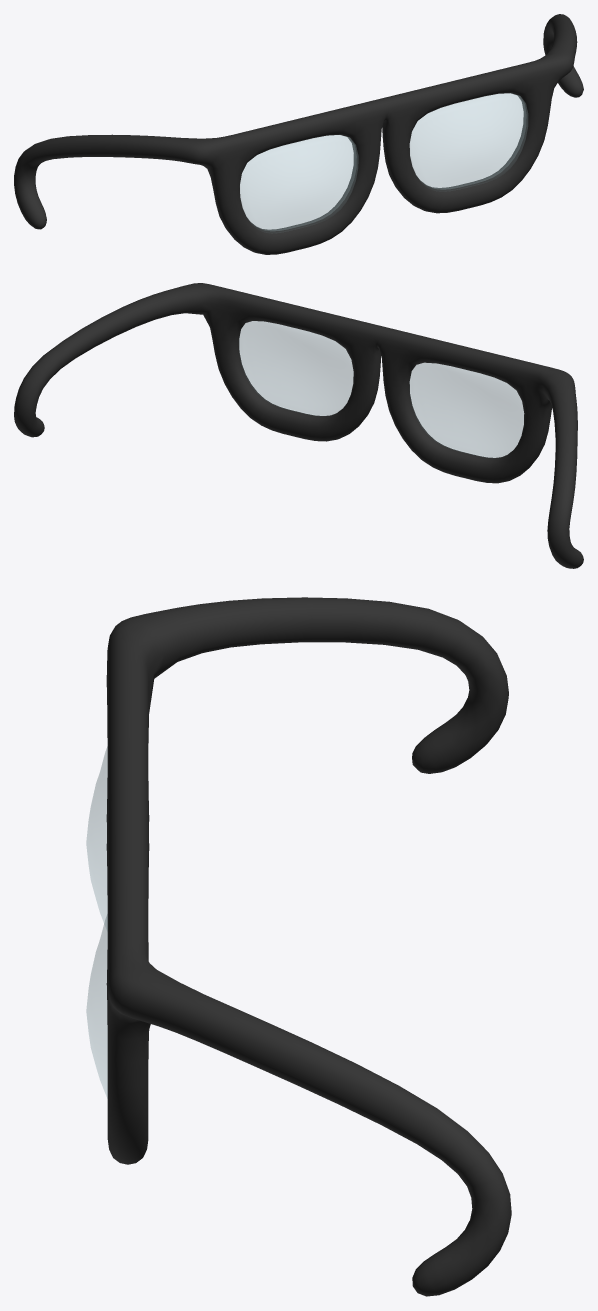
File: nerd.glb
3 views of the same model, one above another, from view 1: azimuth 30°, elevation 25°; view 2: azimuth 150°, elevation 25°; view 3: azimuth 270°, elevation 25° (orthographic). The views are drawn at different scales.
Visible parts, largest first — view 1: NerdGlasses_2658.Shape.002; view 2: NerdGlasses_2658.Shape.002; view 3: NerdGlasses_2658.Shape.002.
Part boxes in pixels (x1,y1,x2,y2): NerdGlasses_2658.Shape.002: (14, 14, 583, 254); NerdGlasses_2658.Shape.002: (14, 283, 583, 568); NerdGlasses_2658.Shape.002: (86, 597, 511, 1296).
Bounding box in the file's own units: 14.46 × 3.21 × 4.8.
